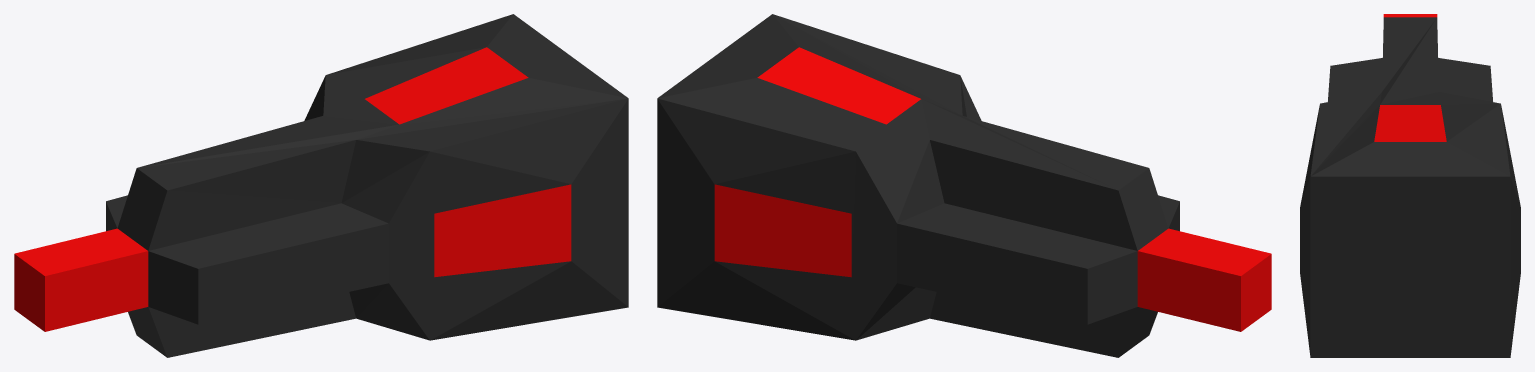
Rendered from rocket.obj.
The picture shows the model from 3 angles, left to right: view 1: azimuth 30°, elevation 25°; view 2: azimuth 150°, elevation 25°; view 3: azimuth 270°, elevation 25°; orthographic projection. The views are drawn at different scales.
Parts seen in each view (by area): view 1: rocket; view 2: rocket; view 3: rocket.
Part boxes in pixels (<box>): rocket: <box>14,14,628,357</box>; rocket: <box>657,14,1271,357</box>; rocket: <box>1300,14,1520,357</box>.
Bounding box in the file's own units: 1.02 × 0.4075 × 0.4134.
1 material, 1 textured.
